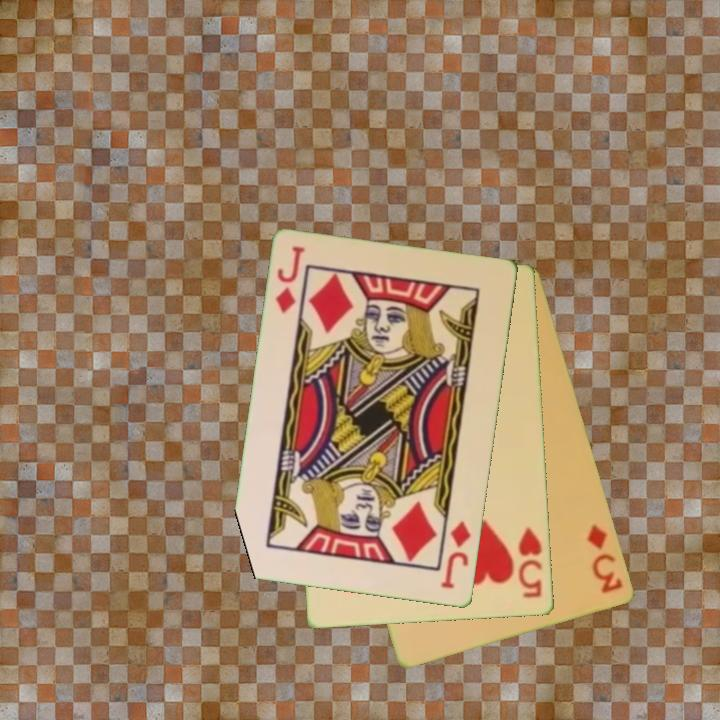3d: (584, 521, 626, 597)
5h: (515, 523, 546, 601)
Jd: (438, 518, 474, 592), (272, 243, 308, 317)
